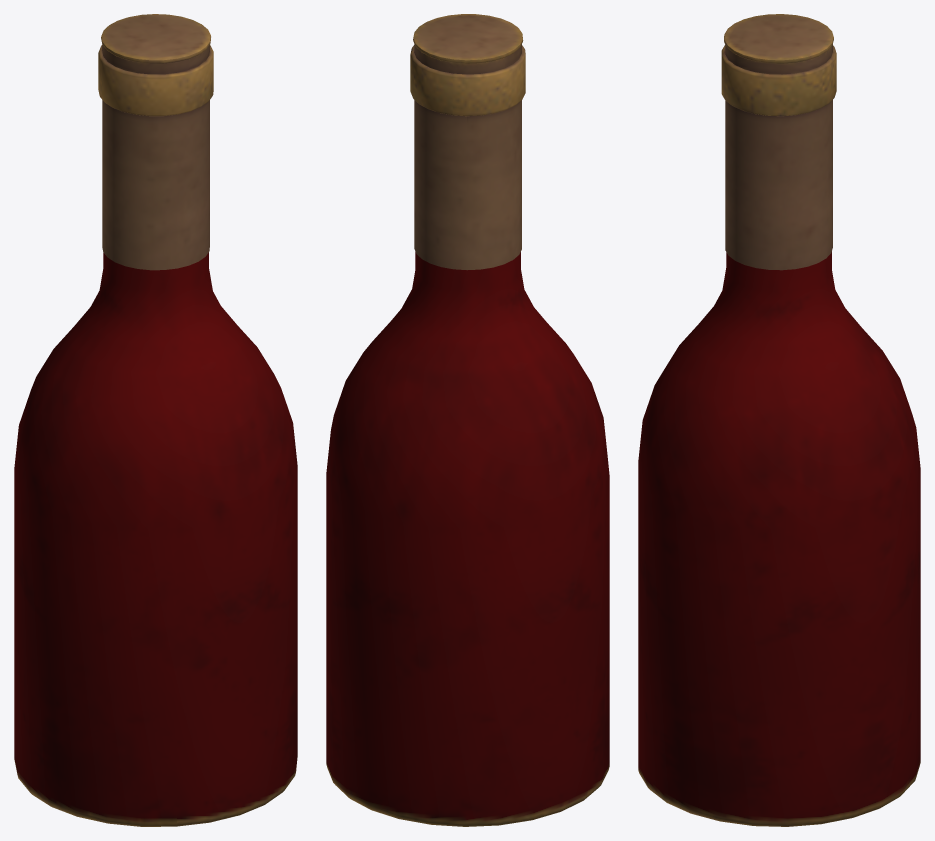
Rendered from SM_Bottle10.fbx.
3 renders of one model, left to right at view 1: azimuth 30°, elevation 25°; view 2: azimuth 150°, elevation 25°; view 3: azimuth 270°, elevation 25°, orthographic.
Visible parts, largest first — view 1: SM_Bottle10_LOD0; view 2: SM_Bottle10_LOD0; view 3: SM_Bottle10_LOD0.
Part boxes in pixels (x1,y1,x2,y2): SM_Bottle10_LOD0: (14, 14, 297, 826); SM_Bottle10_LOD0: (326, 14, 609, 826); SM_Bottle10_LOD0: (638, 14, 920, 826).
Bounding box in the file's own units: 11.23 × 11.21 × 32.11.
Materials: 1 (1 with a texture image).
